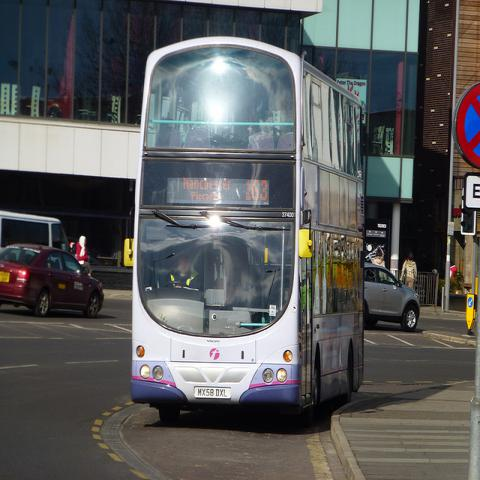bus: (131, 36, 367, 436)
car: (0, 243, 104, 317), (362, 265, 420, 329), (1, 214, 75, 254)
